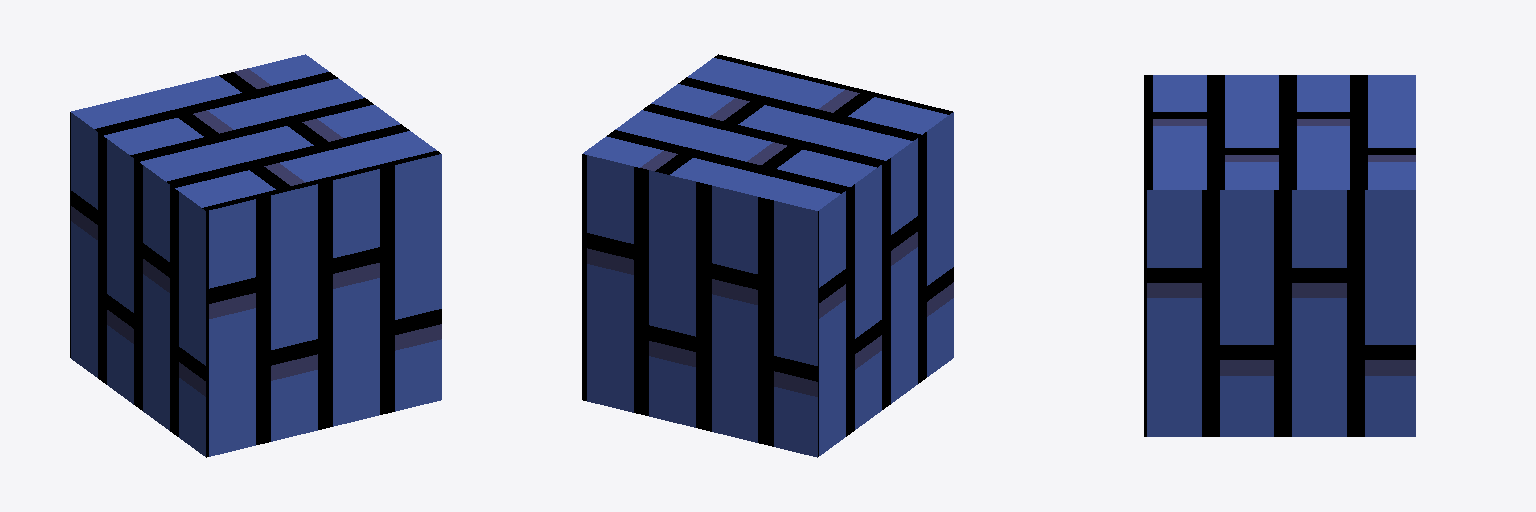
3 views of the same model, side by side, from view 1: azimuth 30°, elevation 25°; view 2: azimuth 150°, elevation 25°; view 3: azimuth 270°, elevation 25° (orthographic).
Visible parts, largest first — view 1: Cube; view 2: Cube; view 3: Cube.
Part boxes in pixels (bbox=[...]): Cube: bbox=[70, 54, 441, 457]; Cube: bbox=[582, 54, 953, 457]; Cube: bbox=[1144, 75, 1415, 436].
Bounding box in the file's own units: 2 × 2 × 2.
Materials: 1 (1 with a texture image).